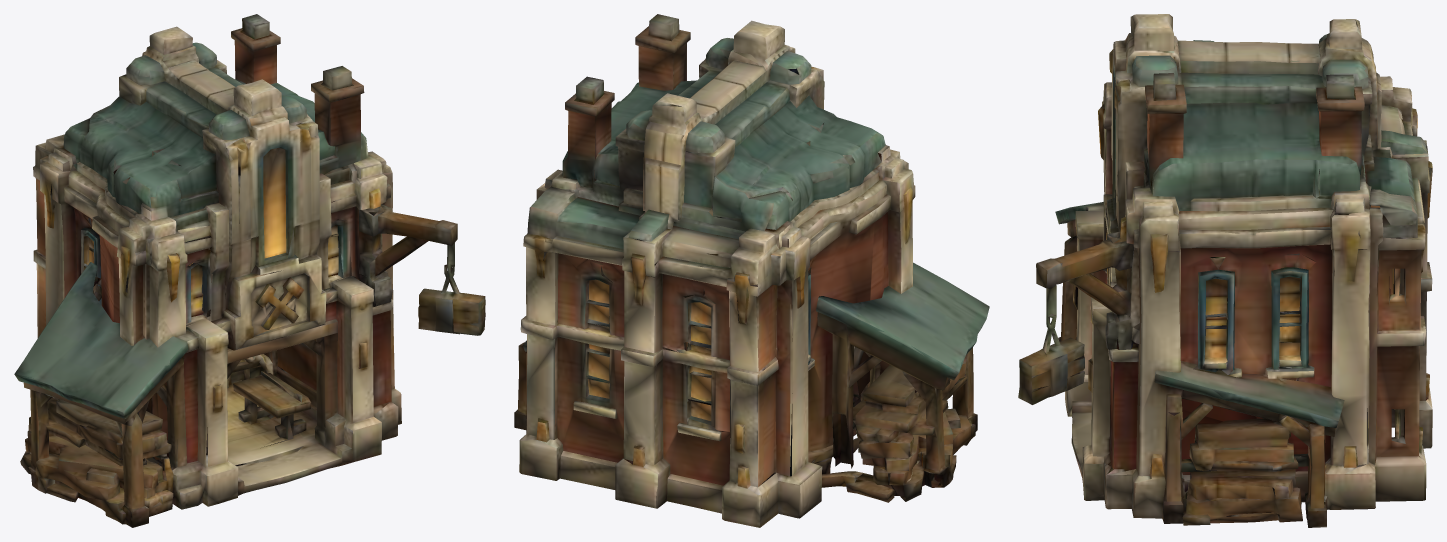
3 views of the same model, side by side, from view 1: azimuth 30°, elevation 25°; view 2: azimuth 150°, elevation 25°; view 3: azimuth 270°, elevation 25° (orthographic). The views are drawn at different scales.
Visible parts, largest first — view 1: expansion__builders_guild__neural_lod, expansion__builders_guild__neural_pendulum; view 2: expansion__builders_guild__neural_lod; view 3: expansion__builders_guild__neural_lod, expansion__builders_guild__neural_pendulum.
Part boxes in pixels (x1,y1,x2,y2): expansion__builders_guild__neural_lod: (14,14,457,527); expansion__builders_guild__neural_pendulum: (418,243,485,335); expansion__builders_guild__neural_lod: (514,14,989,527); expansion__builders_guild__neural_lod: (1036,14,1432,527); expansion__builders_guild__neural_pendulum: (1018,290,1084,404).
Size of the model in its own units: 1 by 0.9035 by 0.7931.
Materials: 1 (1 with a texture image).
